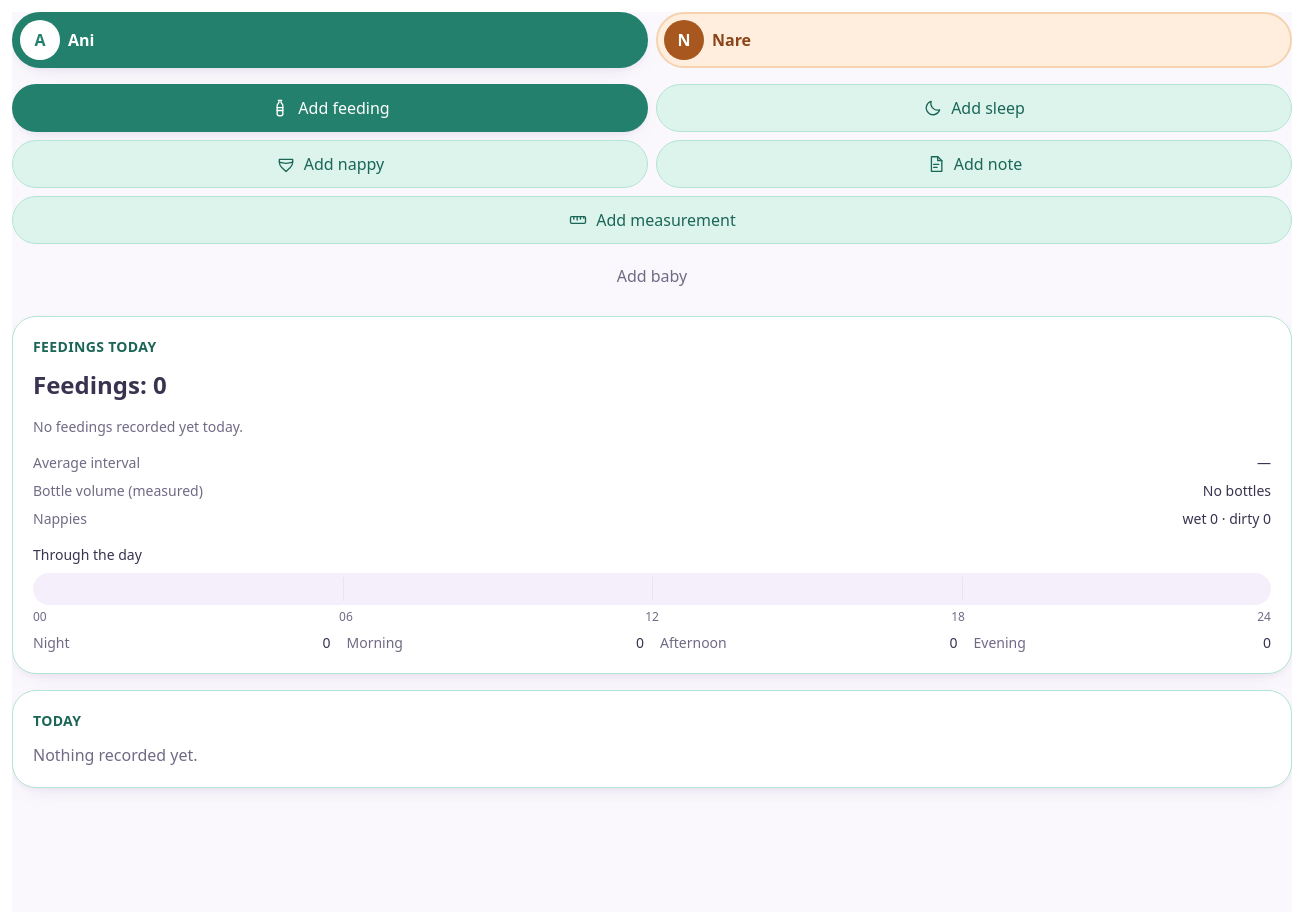
it: adding a sleep › opens the sleep form when the Add sleep action is used
Expected: the button "Add feeding" is shown, top-left (12, 84), bottom-right (648, 132)
Expected: the button "Add note" is shown, top-left (656, 140), bottom-right (1292, 188)
What coordinates should you click on to do the following:
click the button "Add sleep"
I would click on:
 (974, 108)
Its box is top-left (656, 84), bottom-right (1292, 132).
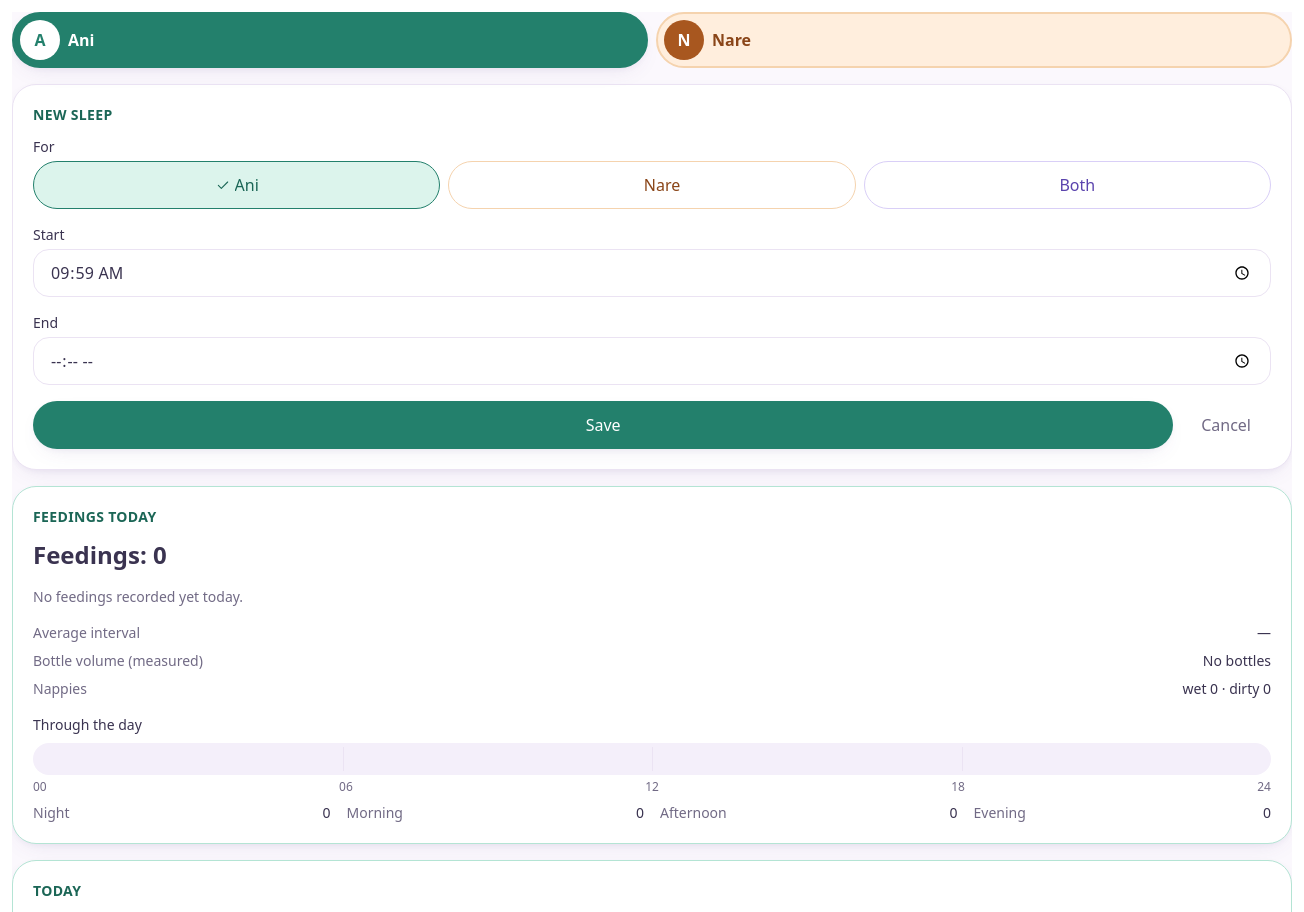
Now the heading "New sleep" is shown, box top-left (33, 105), bottom-right (113, 124)
Now the time field labelled "End" is empty, box top-left (33, 337), bottom-right (1271, 385)
Now the button "Save" is shown, box top-left (33, 401), bottom-right (1173, 449)
